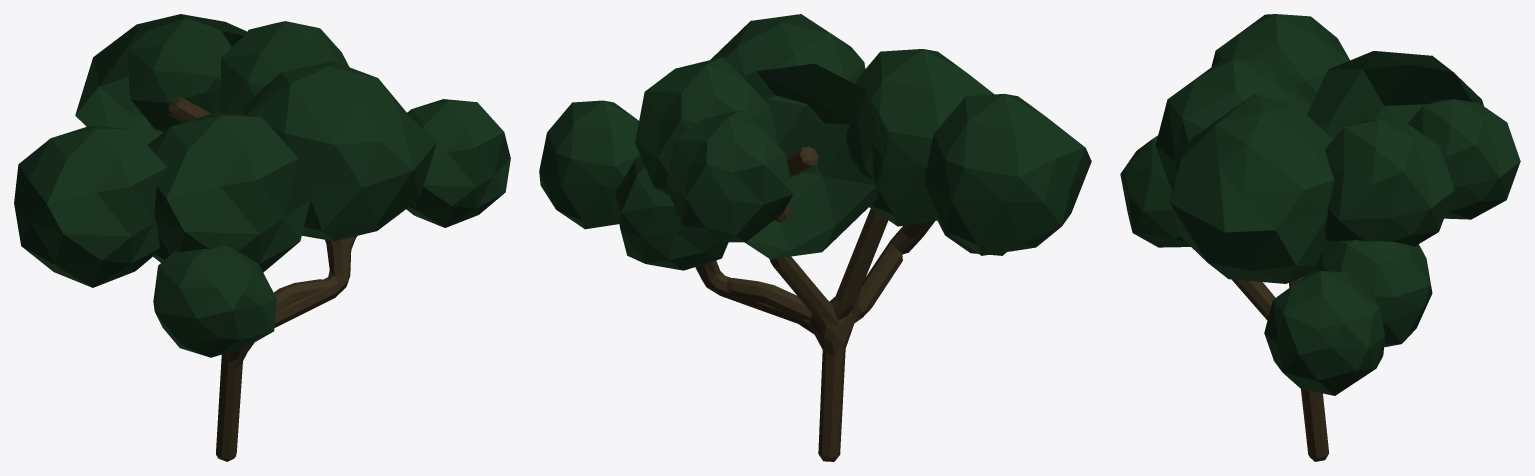
File: boomblad.fbx
3 renders of one model, left to right at view 1: azimuth 30°, elevation 25°; view 2: azimuth 150°, elevation 25°; view 3: azimuth 270°, elevation 25°, orthographic. The views are drawn at different scales.
Visible parts, largest first — view 1: Icosphere, Plane; view 2: Icosphere, Plane; view 3: Icosphere, Plane.
Boxes of the visible parts, x1,y1,x2,y2 form: Icosphere: [14, 14, 510, 357]; Plane: [167, 97, 356, 461]; Icosphere: [539, 14, 1091, 270]; Plane: [695, 146, 934, 461]; Icosphere: [1120, 14, 1520, 395]; Plane: [1231, 276, 1328, 461].
Bounding box in the file's own units: 1807 × 1444 × 1308.
